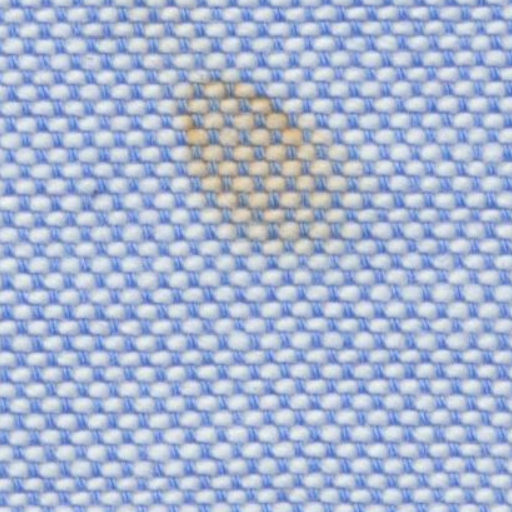WuZi: (164, 59, 380, 256)
